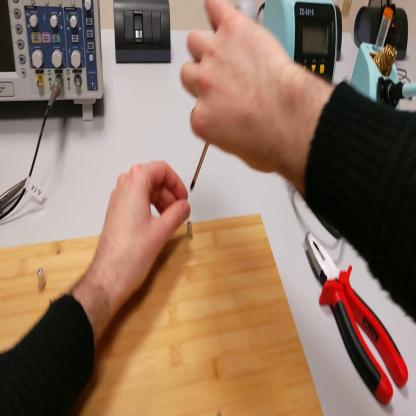hand: (181, 4, 291, 171), (97, 161, 192, 302)
oscilloscope: (1, 2, 108, 121)
oscilloscope probe tip: (2, 177, 27, 214)
pliers: (305, 234, 409, 409)
screwdriver-: (193, 141, 210, 192)
socket: (356, 10, 410, 62), (336, 4, 344, 63)
welder base: (351, 4, 403, 110)
welder probe tip: (394, 84, 415, 104)
welder station: (263, 2, 338, 87)
working area: (1, 217, 323, 416)
